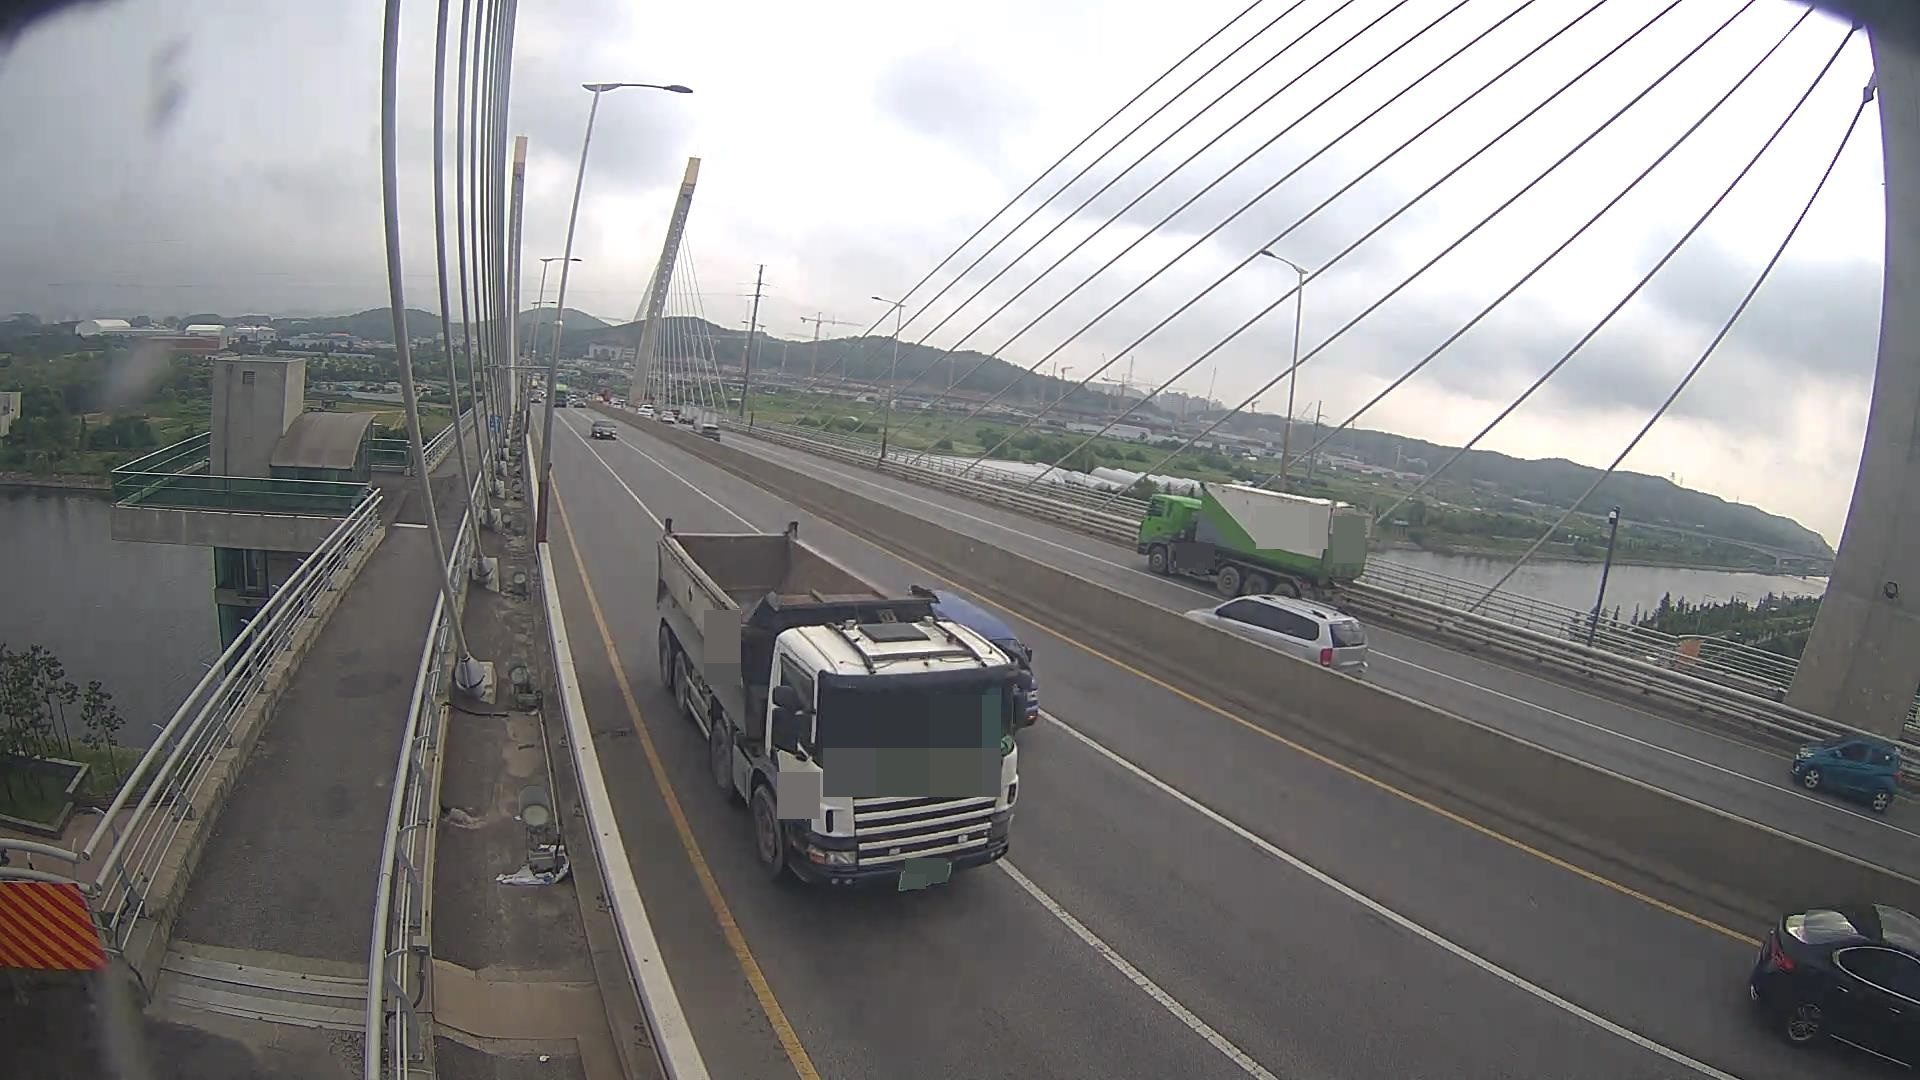정상차량: (657, 519, 1033, 891)
